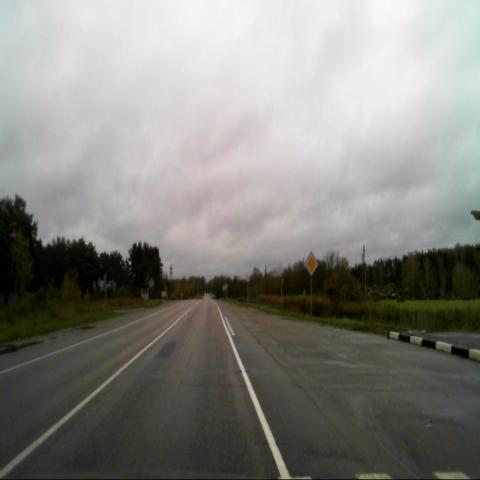2_1: (303, 250, 319, 277)
